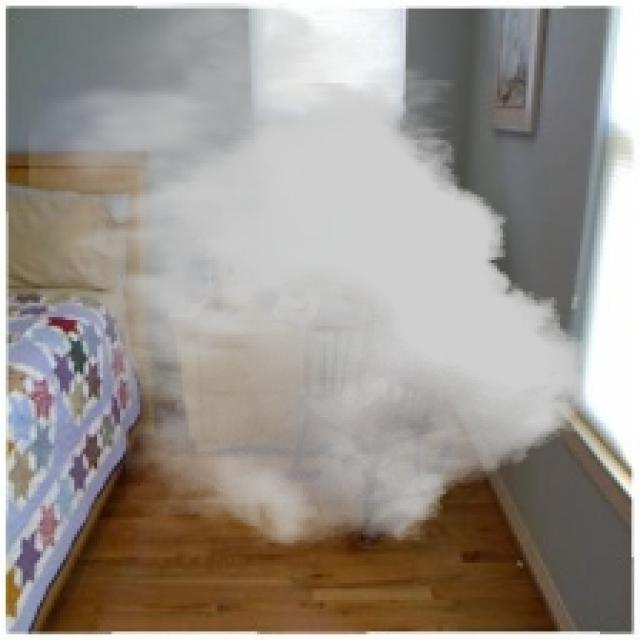Smoke: (28, 2, 586, 548)
